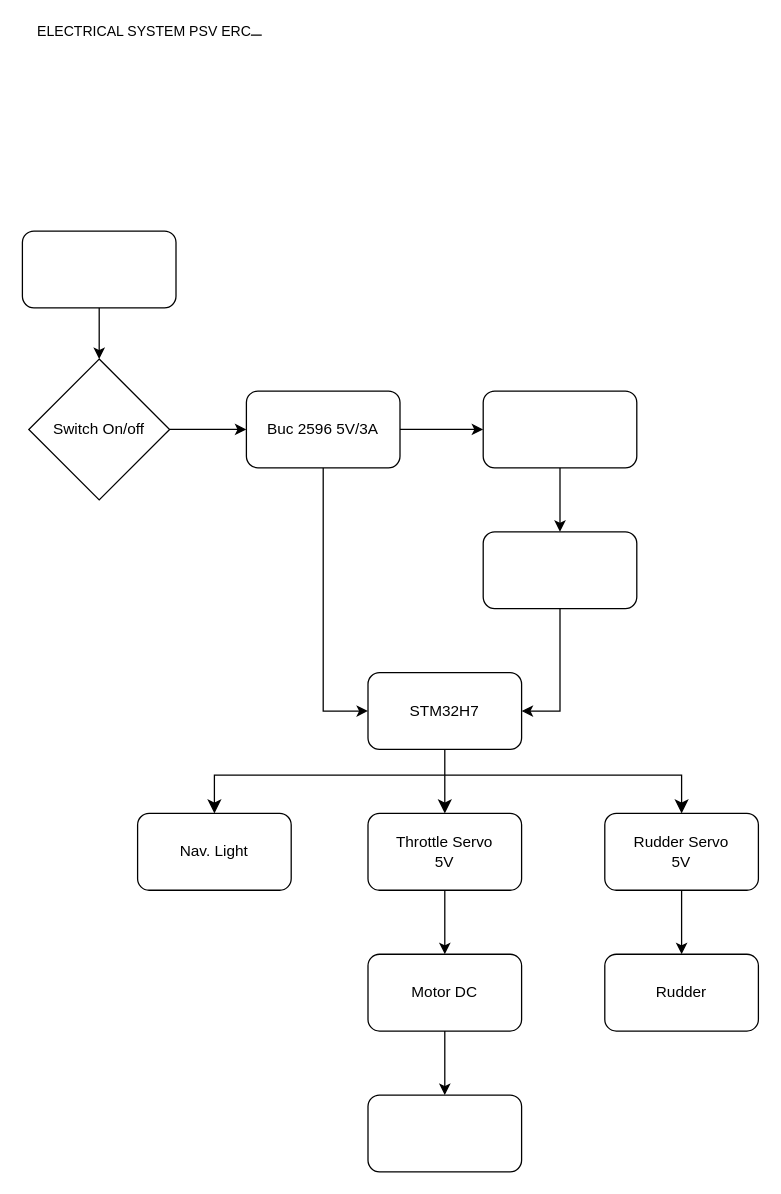
This 781x1194 diagram has some shape labels left out. Each missing label, with the centre of its shape:
"Baterai Li-Po 2s 7,4V 2200mAh" goes at [98,269].
"LoRa" goes at [559,429].
"Proppeler" goes at [444,1133].
"Receiver Unit" goes at [559,570].
